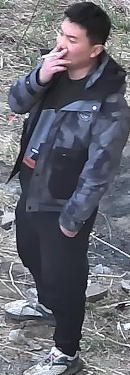smoking: (34, 16, 94, 80)
